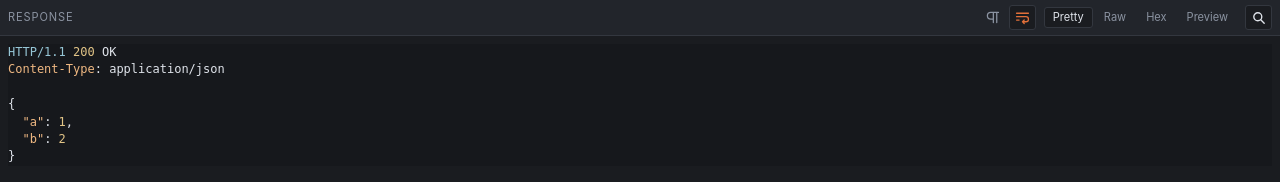
Test case: opens responses in Pretty and offers Pretty, Raw, Hex and Preview in order
The image size is (1280, 182).
Click the tab "Raw" at (1115, 18), box [1095,7,1135,28]
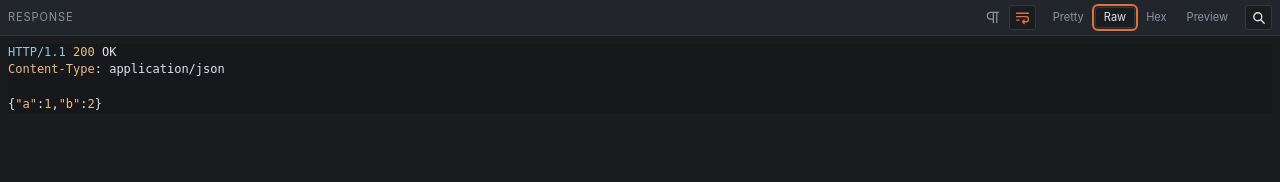
Click the tab "Hex" at (1156, 18), box [1137,7,1176,28]
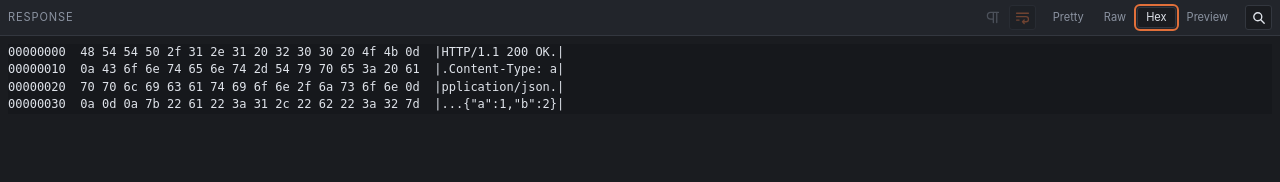
Check: the text with class "replay-response" shows "48 54 54 50", box [8,45,564,111]
